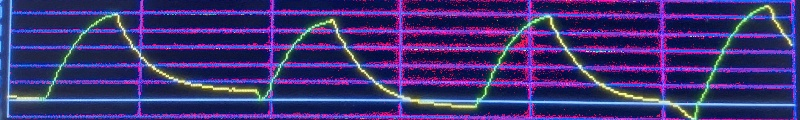normal_volume: (0, 3, 783, 111)
